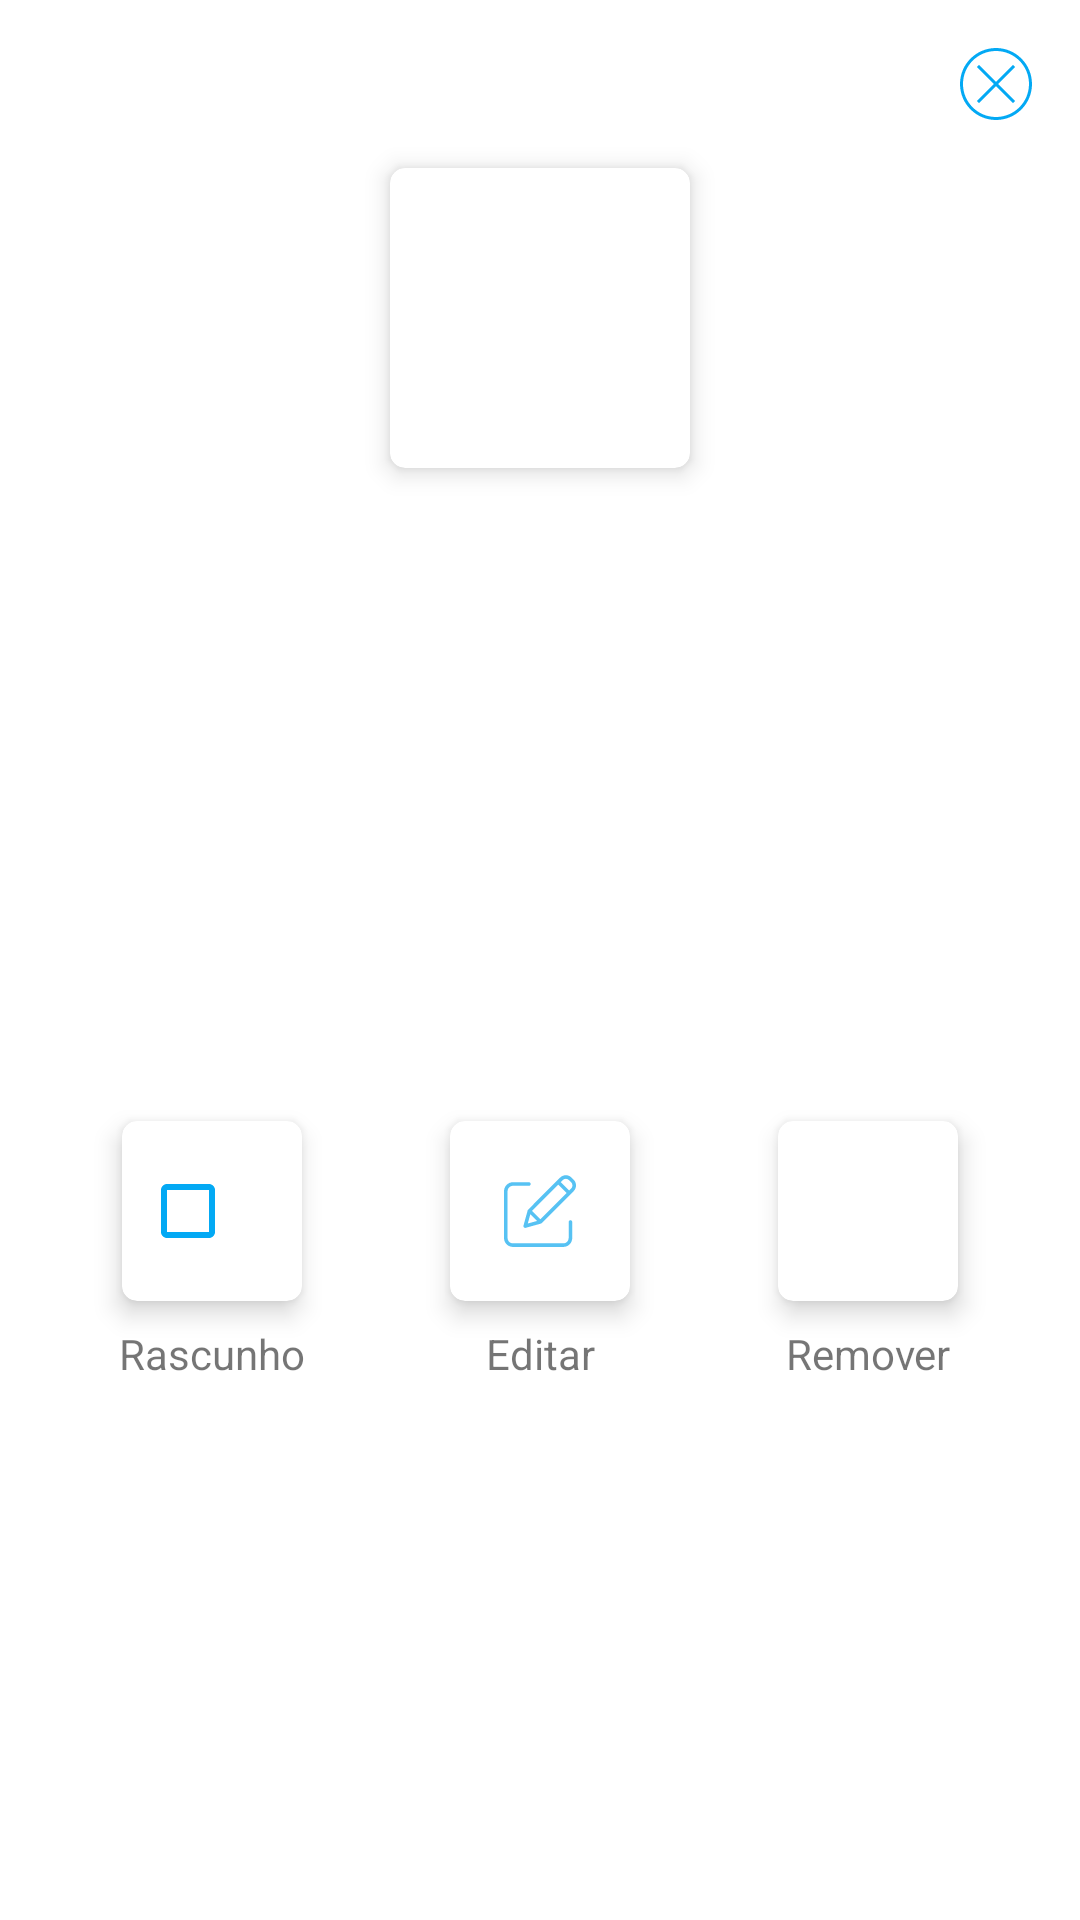

Screen size 1080 x 1920. Icon name, then its center in pixels as (x,y):
fechar: (996,84)
